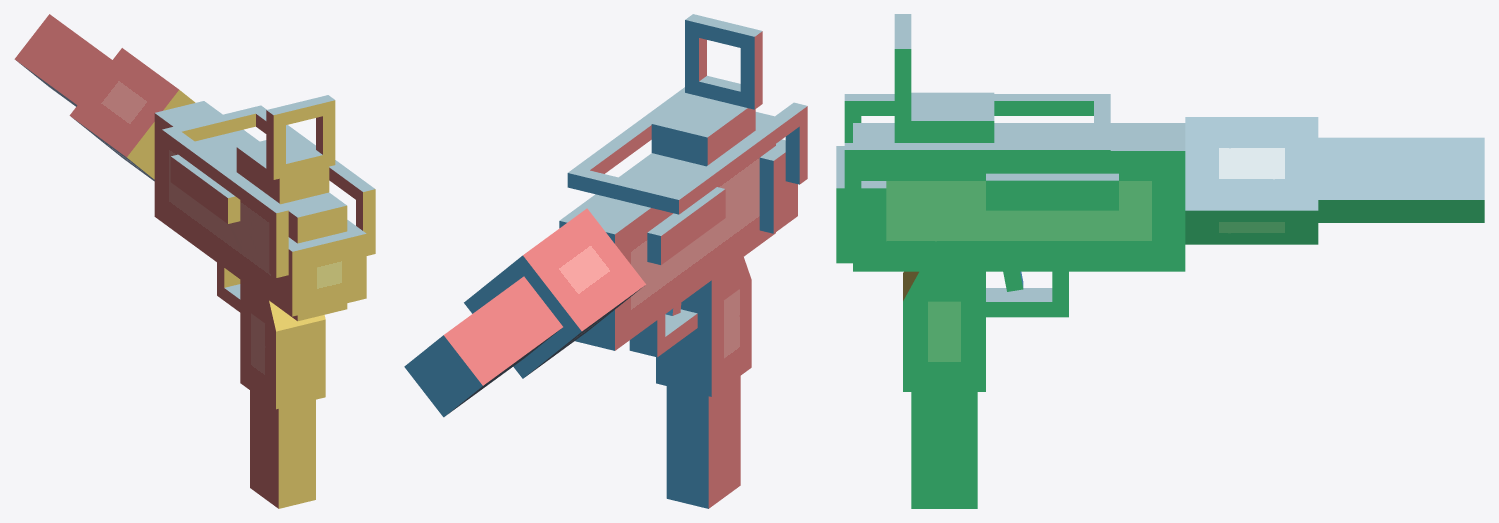
Rendered from Mac10.gltf.
3 views of the same model, side by side, from view 1: azimuth 30°, elevation 25°; view 2: azimuth 150°, elevation 25°; view 3: azimuth 270°, elevation 25° (orthographic). The views are drawn at different scales.
Parts seen in each view (by area): view 1: cuboid (×15); view 2: cuboid (×15); view 3: cuboid (×14).
Boxes of the visible parts, box(x1,y1,x2,y2) form: cuboid (×15): box(14, 14, 375, 508); cuboid (×15): box(404, 14, 807, 508); cuboid (×14): box(836, 14, 1484, 508).
Bounding box in the file's own units: 0.2652 × 0.9688 × 1.22.
1 material, 1 textured.
